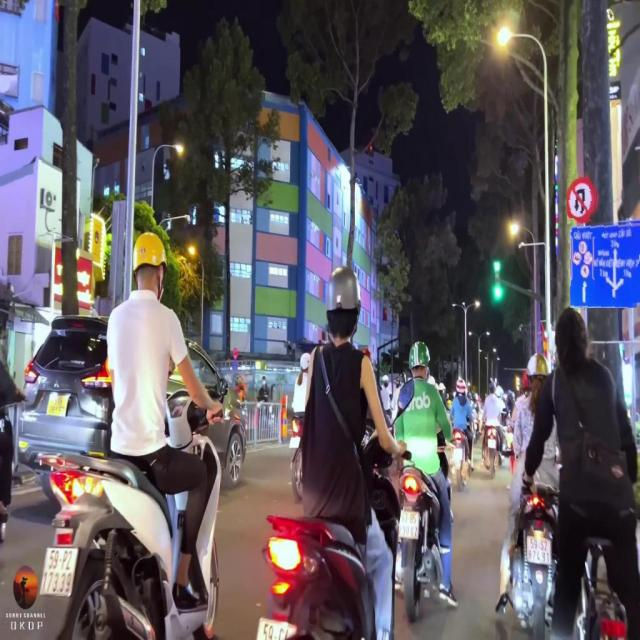cam_quay_dau_xe: (567, 173, 599, 224)
khac: (570, 218, 640, 308)
